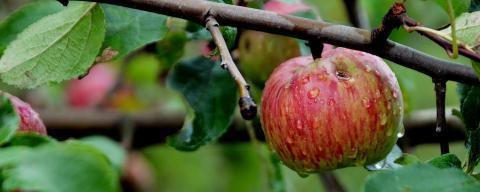apple: (258, 50, 404, 176)
